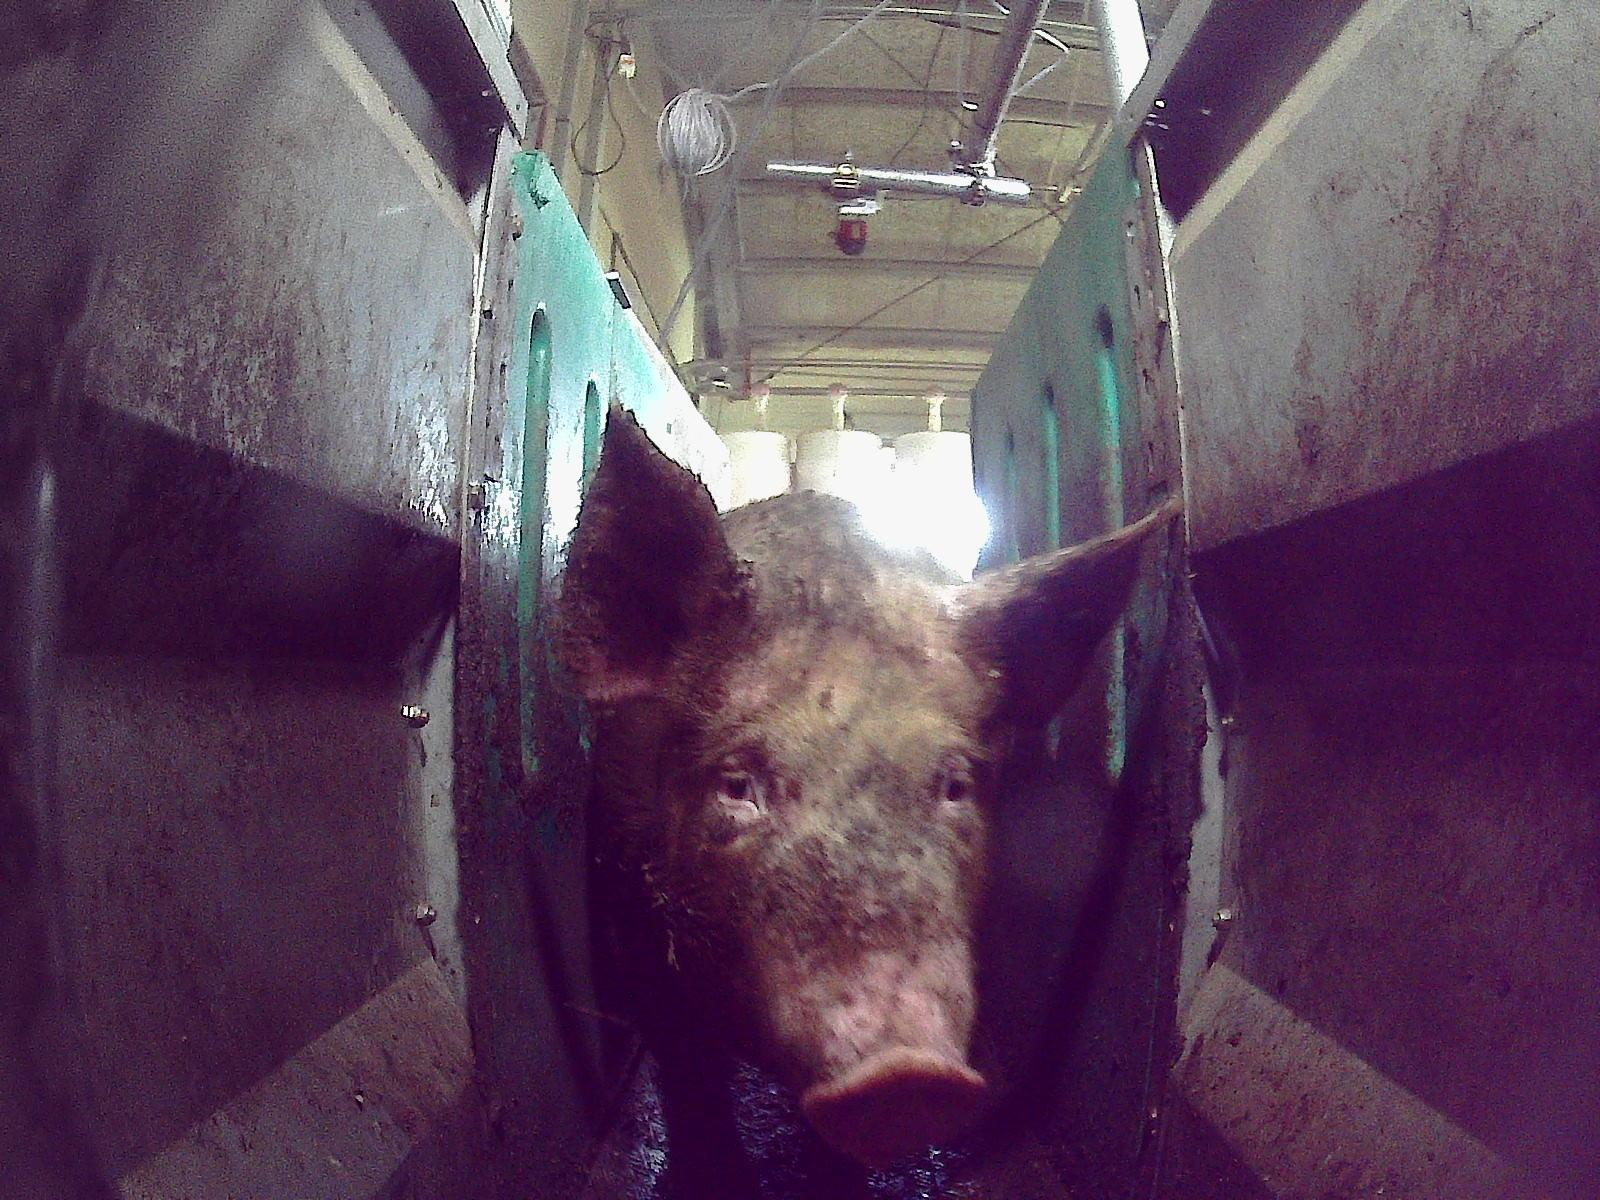Face: (650, 619, 991, 1165)
